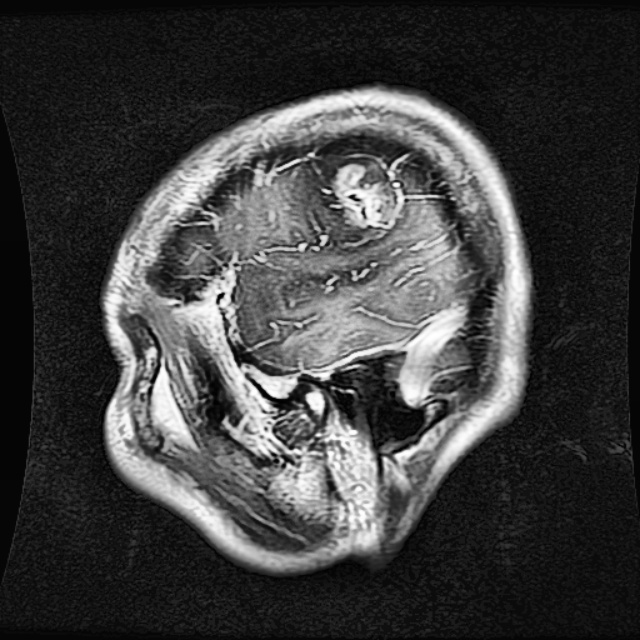Meningioma: (337, 163, 392, 225)
